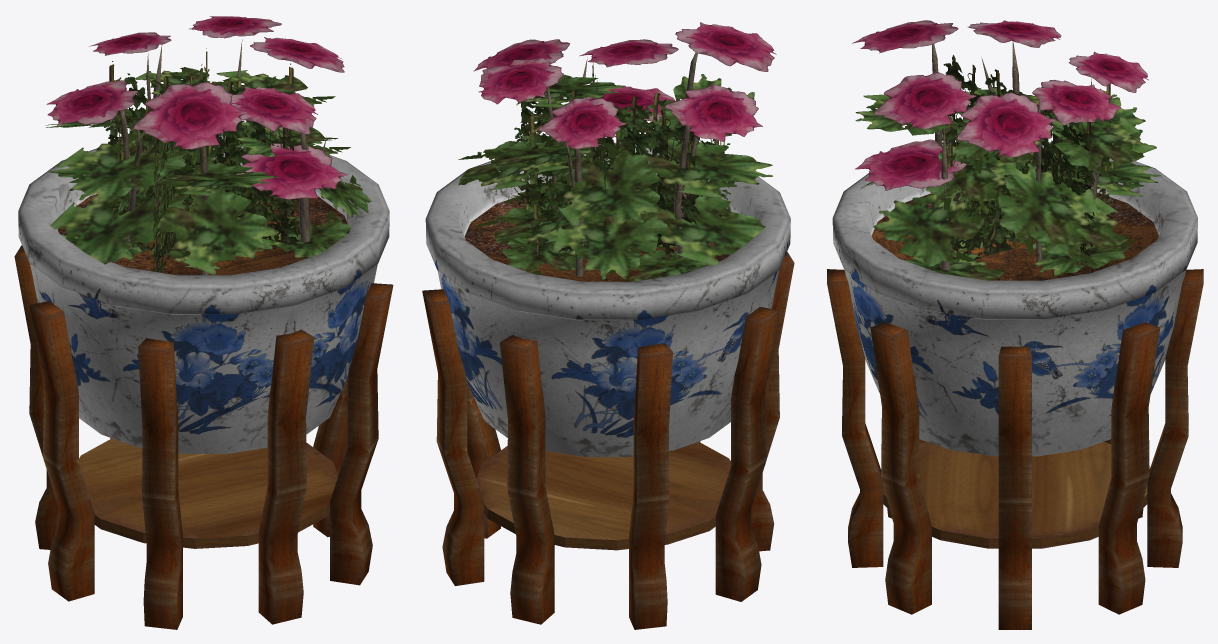
Rendered from Pot_2.FBX.
3 renders of one model, left to right at view 1: azimuth 30°, elevation 25°; view 2: azimuth 150°, elevation 25°; view 3: azimuth 270°, elevation 25°, orthographic.
Parts seen in each view (by area): view 1: Pot_2; view 2: Pot_2; view 3: Pot_2.
Boxes of the visible parts, box(x1,y1,x2,y2) form: Pot_2: box(14, 16, 393, 629); Pot_2: box(422, 22, 794, 629); Pot_2: box(827, 20, 1203, 629).
Bounding box in the file's own units: 20.75 × 30.77 × 20.85.
